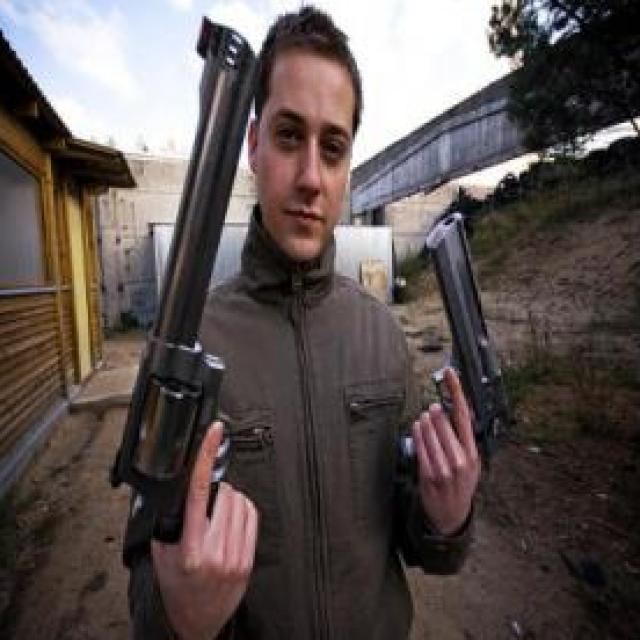pistol: (107, 16, 261, 554), (408, 209, 517, 489)
